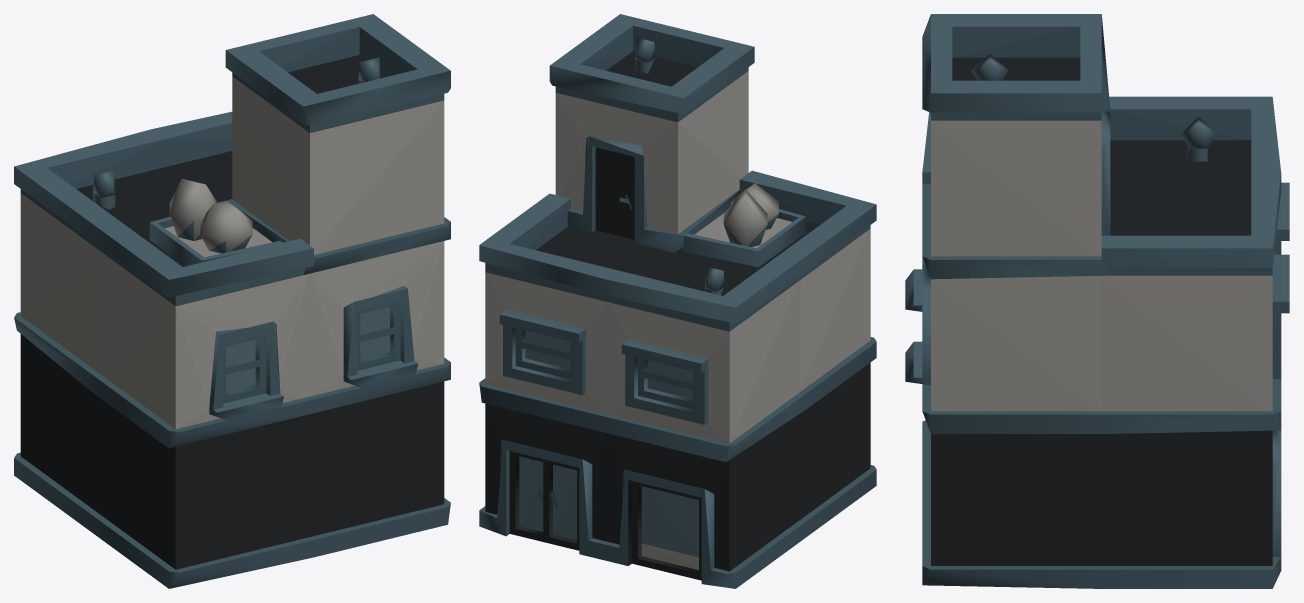
File: building-d.mid.c5ff739e.glb
3 renders of one model, left to right at view 1: azimuth 30°, elevation 25°; view 2: azimuth 150°, elevation 25°; view 3: azimuth 270°, elevation 25°, orthographic. The views are drawn at different scales.
Parts seen in each view (by area): view 1: building-d; view 2: building-d; view 3: building-d.
Part boxes in pixels (x1,y1,x2,y2): building-d: (14, 14, 450, 588); building-d: (479, 14, 876, 588); building-d: (905, 14, 1289, 588).
Bounding box in the file's own units: 10.08 × 15.52 × 10.8.
